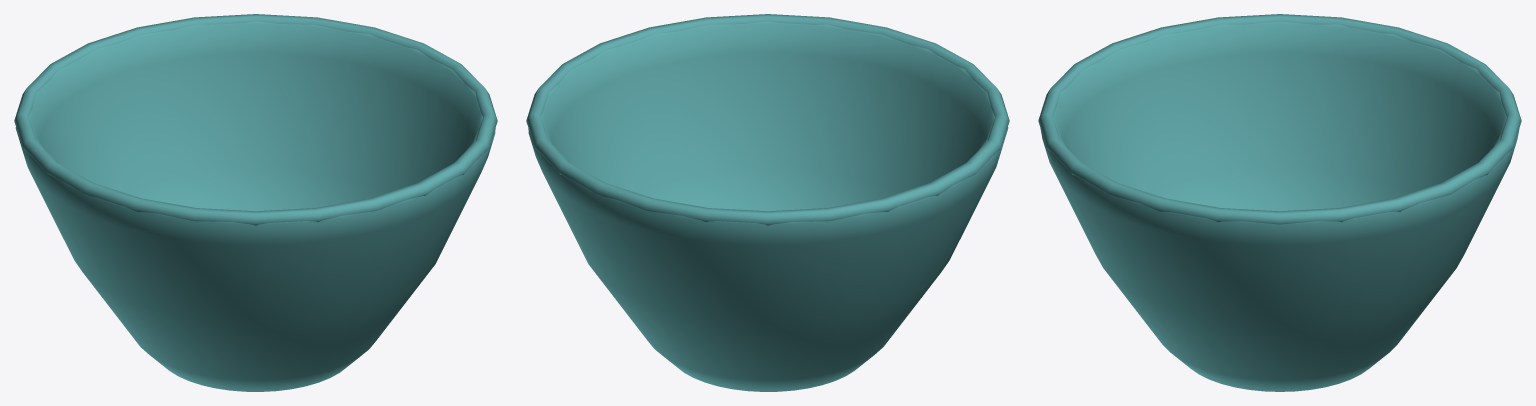
Rendered from tableware_bowl.glb.
3 renders of one model, left to right at view 1: azimuth 30°, elevation 25°; view 2: azimuth 150°, elevation 25°; view 3: azimuth 270°, elevation 25°, orthographic.
Parts seen in each view (by area): view 1: Open serving bowl, Bowl rounded rim; view 2: Open serving bowl, Bowl rounded rim; view 3: Open serving bowl, Bowl rounded rim.
Boxes of the visible parts, x1,y1,x2,y2 form: Open serving bowl: (15,21,495,391); Bowl rounded rim: (14,14,497,225); Open serving bowl: (528,21,1008,391); Bowl rounded rim: (526,14,1009,225); Open serving bowl: (1040,21,1519,391); Bowl rounded rim: (1038,14,1521,224).
Size of the model in its own units: 0.203 by 0.109 by 0.203.
